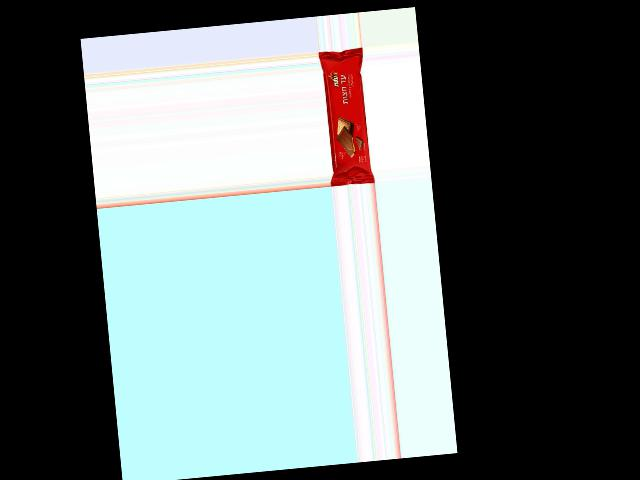chocolate: (318, 51, 375, 185)
